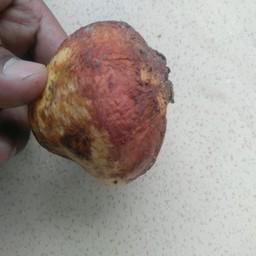Bad_guava: (32, 15, 175, 186)
